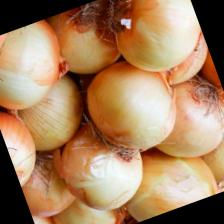onion: (75, 46, 190, 164), (45, 109, 155, 222), (105, 124, 220, 224), (97, 0, 210, 83), (135, 69, 224, 169), (0, 15, 77, 120)
